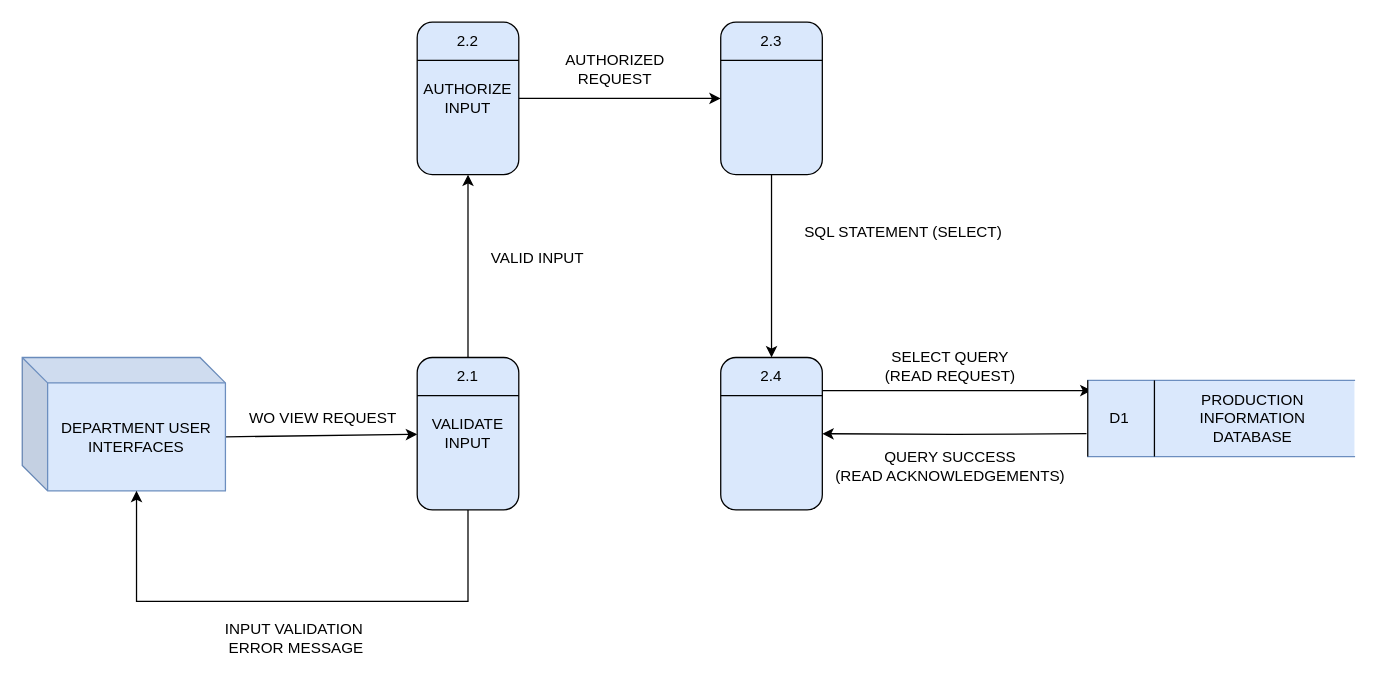
Some shapes in this 1377 by 679 pixel diagram are drawn without their labels. The shapes that lost their labels are listed below. From the top down, each one's box as (x1, y1, x2, y2) in pixels, then its label:
(719, 21, 822, 175): PREPARE SQL STATEMENT
(719, 356, 822, 510): EXECUTE VIEW REQUEST
